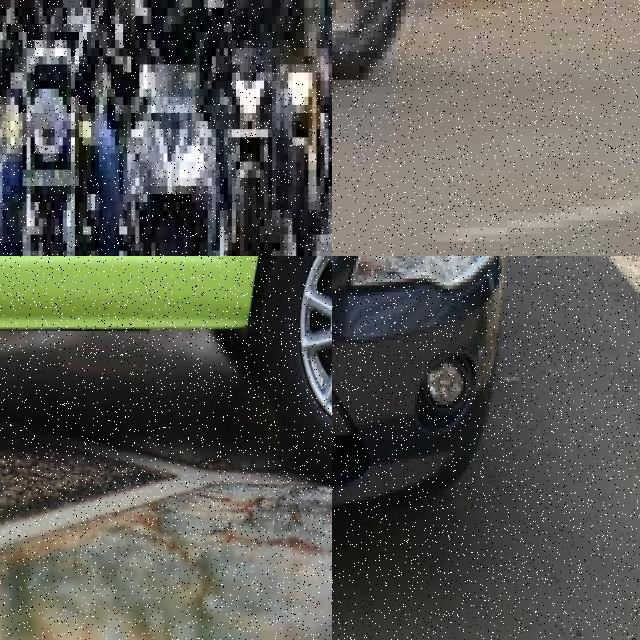bike: (2, 24, 103, 256), (131, 40, 227, 256), (332, 0, 475, 136), (227, 48, 280, 256), (288, 48, 332, 256)
car: (0, 256, 332, 491), (332, 256, 509, 510)
